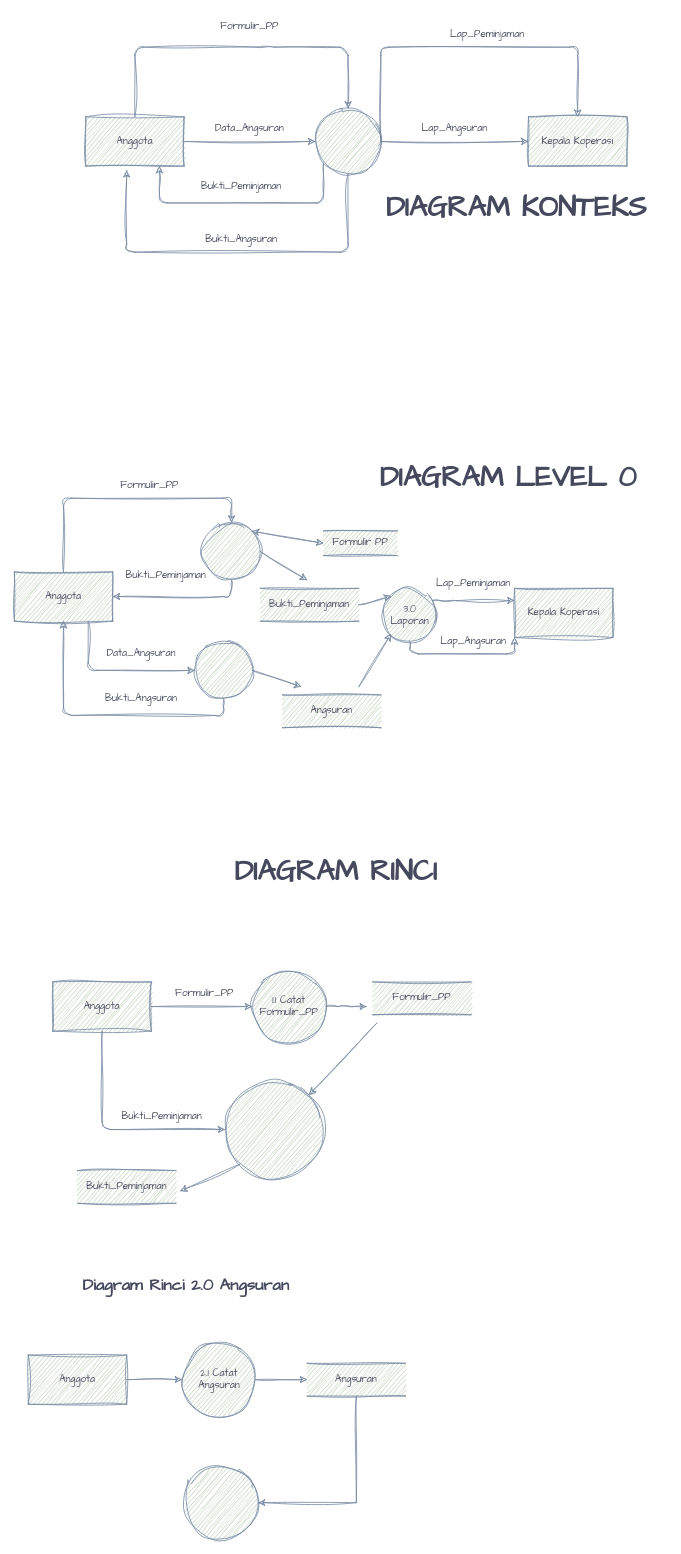
Image size: 681x1554. Some labels were removed from this diagram. The centre of each missing label's shape, as x and y in pixels:
"1.0 Peminjaman" belongs at pixel 231 551.
"1.2 Buat Bukti_Peminjaman" belongs at pixel 273 1129.
"2.0 Angsuran" belongs at pixel 223 670.
"2.2 Bukti_Angsuran" belongs at pixel 220 1502.
"Sistem Peminnjaman Koperasi" belongs at pixel 347 141.
